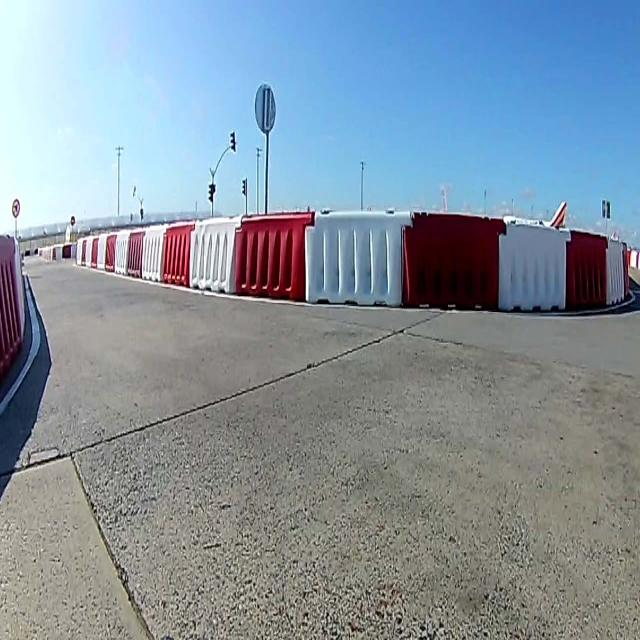soladonulmez: (12, 198, 20, 217)
